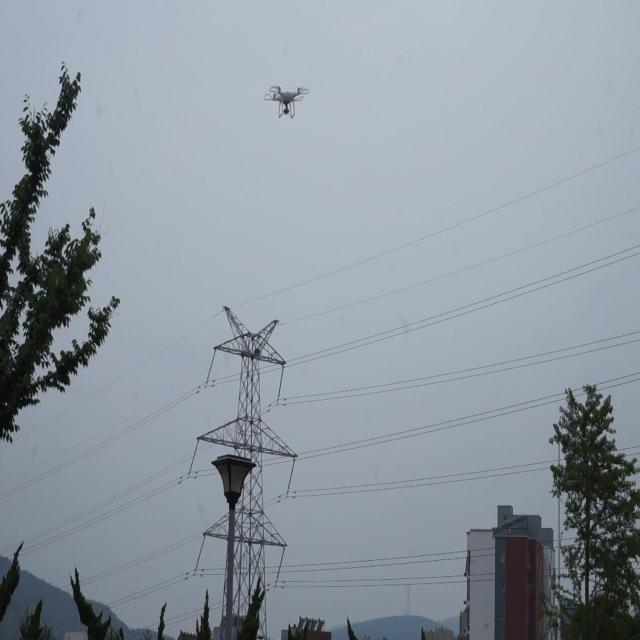drone: (262, 83, 309, 120)
